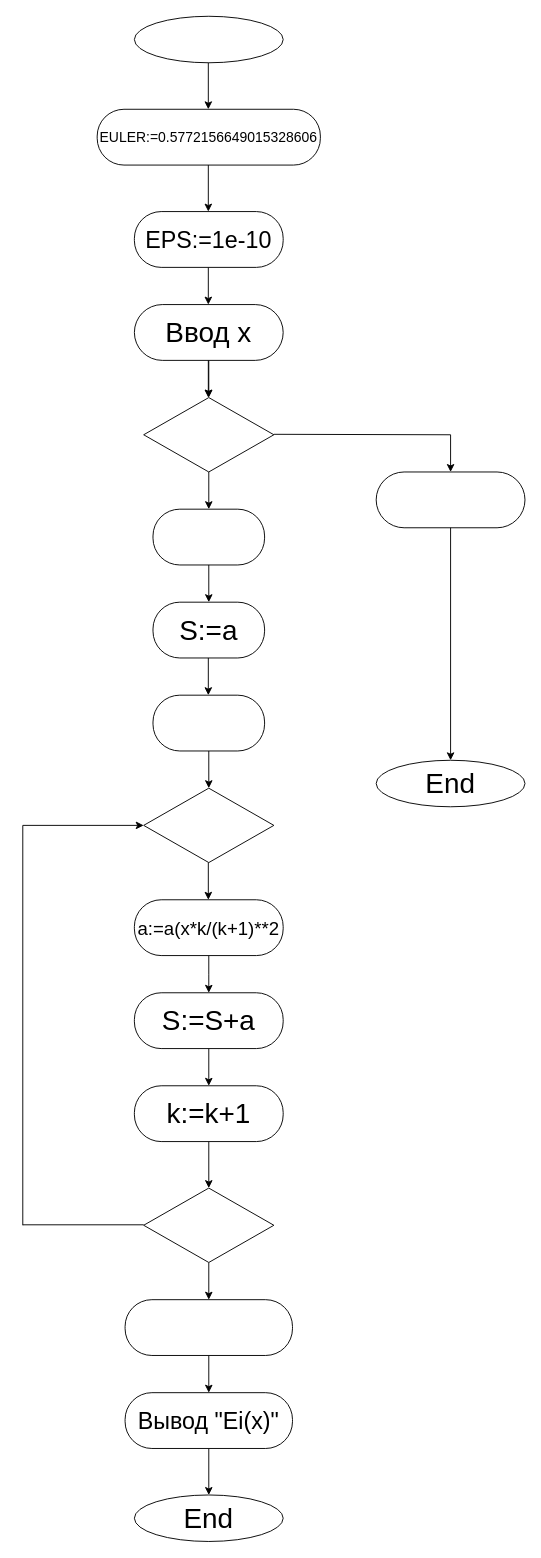
Some shapes in this 541 by 1558 pixel diagram are drawn without their labels. The box of each missing label's shape, as (x1, y1, x2, y2) in pixels:
a:=x: (152, 508, 265, 565)
Ei(x)=EULER+log(|x|)+S: (124, 1299, 292, 1355)
k:=1: (152, 694, 265, 751)
Start: (133, 15, 283, 63)
Вывод "illegal value of x": (375, 471, 525, 528)
